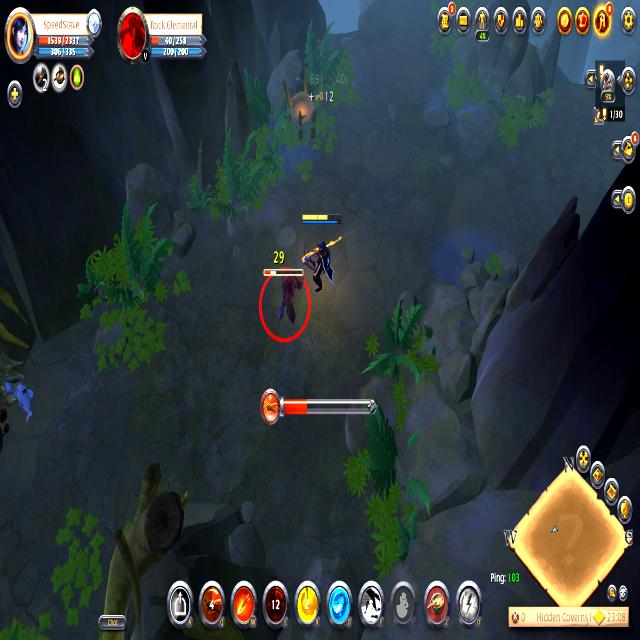ore: (256, 260, 312, 340)
red: (298, 206, 346, 307)
